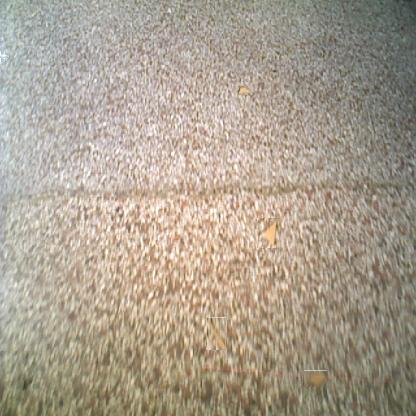dirty: (206, 317, 226, 350), (257, 218, 279, 248), (303, 370, 327, 387), (236, 85, 252, 95), (0, 51, 7, 60)
